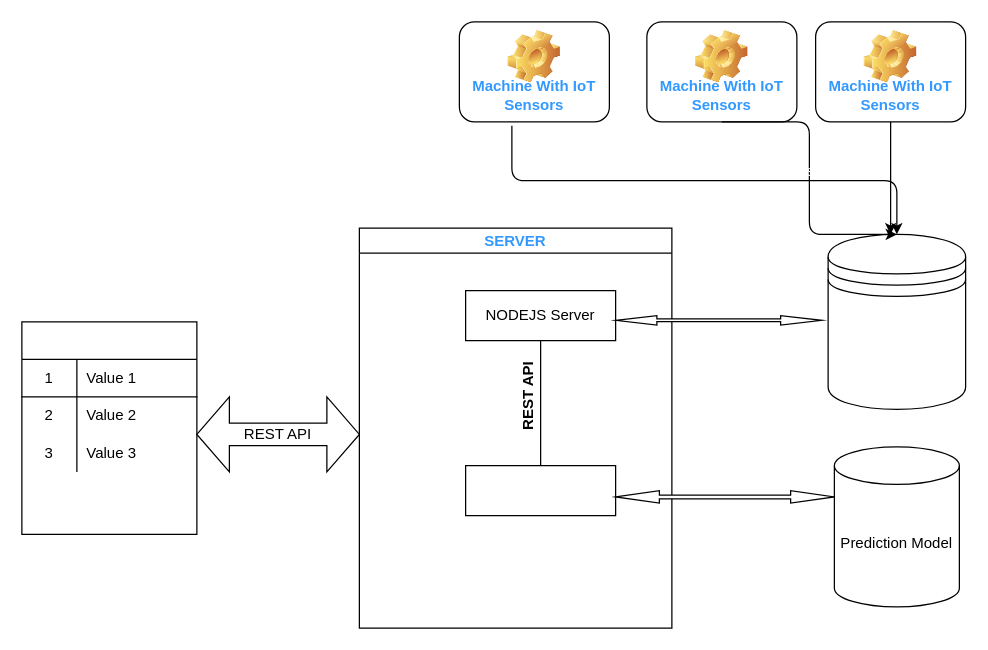
Image size: 988x650. Some labels were removed from this diagram. Here are the shapes that lost their labels. From the top down, the box of each, then its label:
(827, 233, 966, 409): Storage File System Base
(21, 321, 197, 534): USER INTERFACE
(464, 464, 616, 516): PYTHON Server
